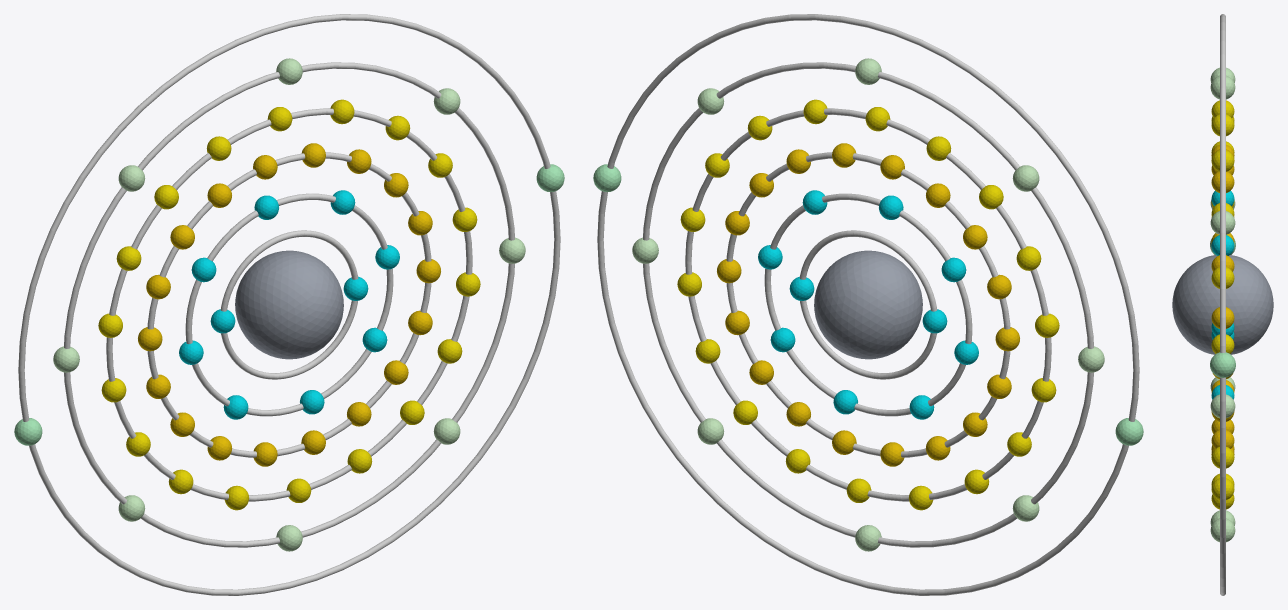
3 renders of one model, left to right at view 1: azimuth 30°, elevation 25°; view 2: azimuth 150°, elevation 25°; view 3: azimuth 270°, elevation 25°, orthographic. The views are drawn at different scales.
Parts seen in each view (by area): view 1: world; view 2: world; view 3: world.
Part boxes in pixels (bbox=[...]): world: bbox=[14, 14, 564, 595]; world: bbox=[593, 14, 1143, 595]; world: bbox=[1172, 14, 1273, 595].
Size of the model in its own units: 2.55 by 2.53 by 0.44.
